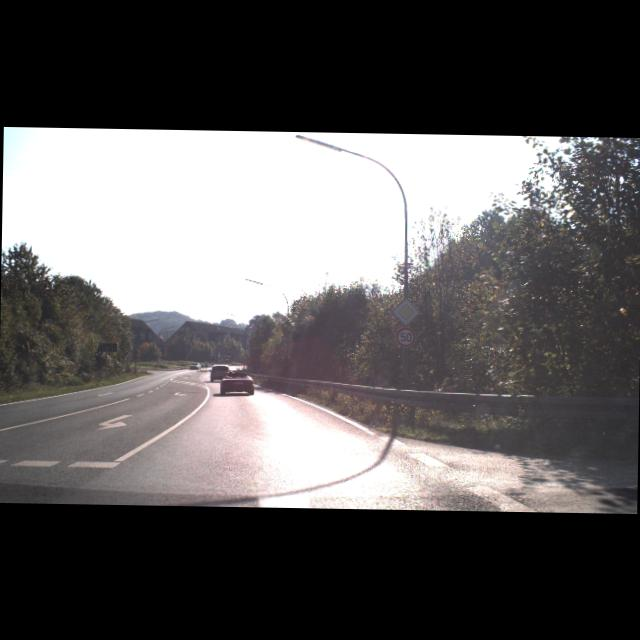other: (391, 298, 419, 325)
prohibitory: (394, 326, 415, 346)
